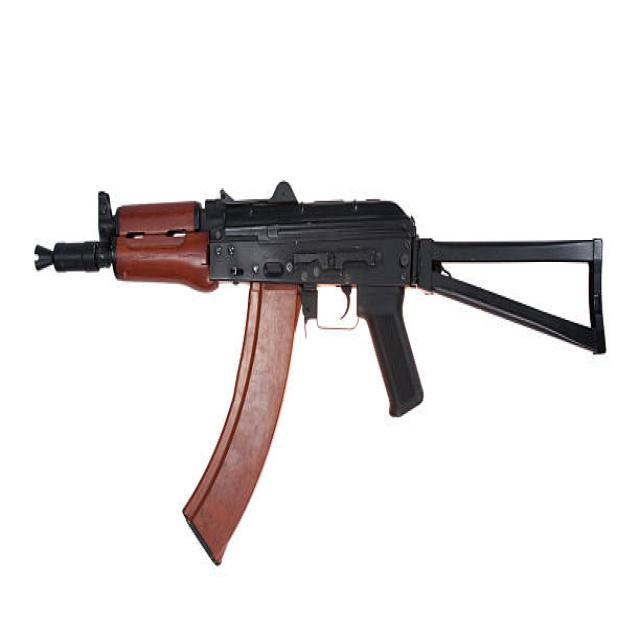rifle: (24, 177, 618, 583)
